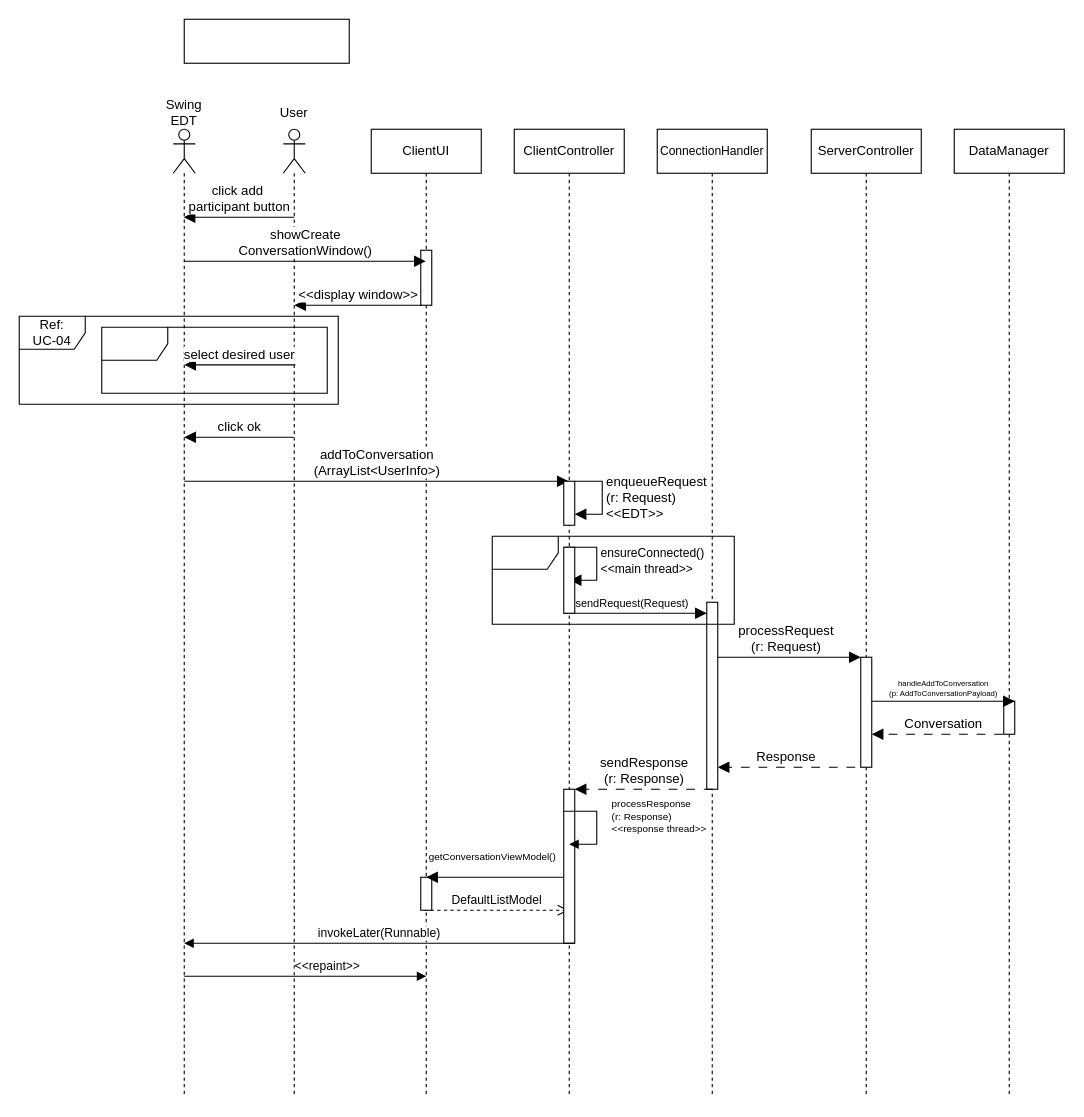
The diagram is 1084 pixels wide and 1117 high, and some of its shapes have lost their labels. Each missing label, with the centre of its shape:
repeat as needed: point (214, 359)
Request drain loop: point (612, 579)
UC-08 Add users to existing group conversation: point (266, 40)
